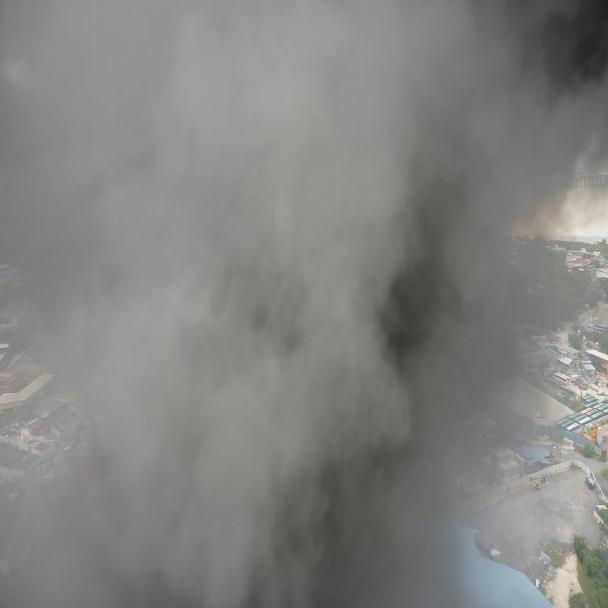smoke: (0, 0, 608, 602)
